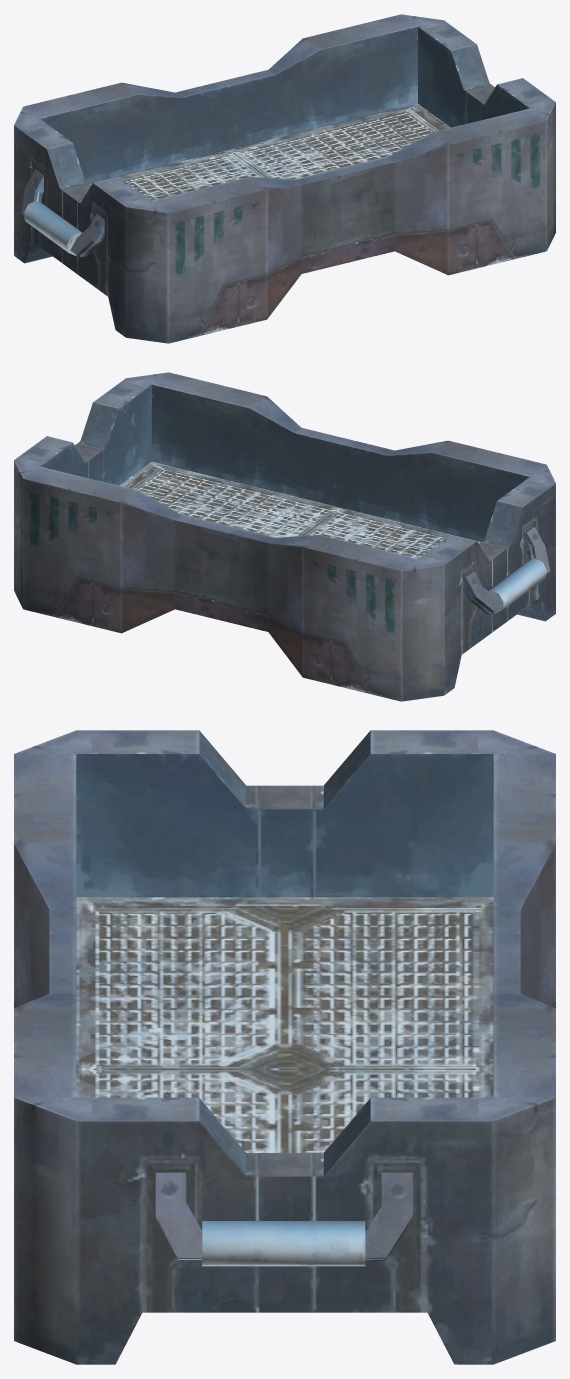
File: hth_item_con_footlocker_main.glb
3 views of the same model, one above another, from view 1: azimuth 30°, elevation 25°; view 2: azimuth 150°, elevation 25°; view 3: azimuth 270°, elevation 25° (orthographic). The views are drawn at different scales.
Visible parts, largest first — view 1: hth_item_con_footlocker_main; view 2: hth_item_con_footlocker_main; view 3: hth_item_con_footlocker_main.
Part boxes in pixels (bbox=[...]): hth_item_con_footlocker_main: bbox=[14, 14, 555, 343]; hth_item_con_footlocker_main: bbox=[14, 372, 555, 701]; hth_item_con_footlocker_main: bbox=[14, 730, 555, 1364].
Size of the model in its own units: 0.1907 by 0.0495 by 0.1.
1 material, 1 textured.
